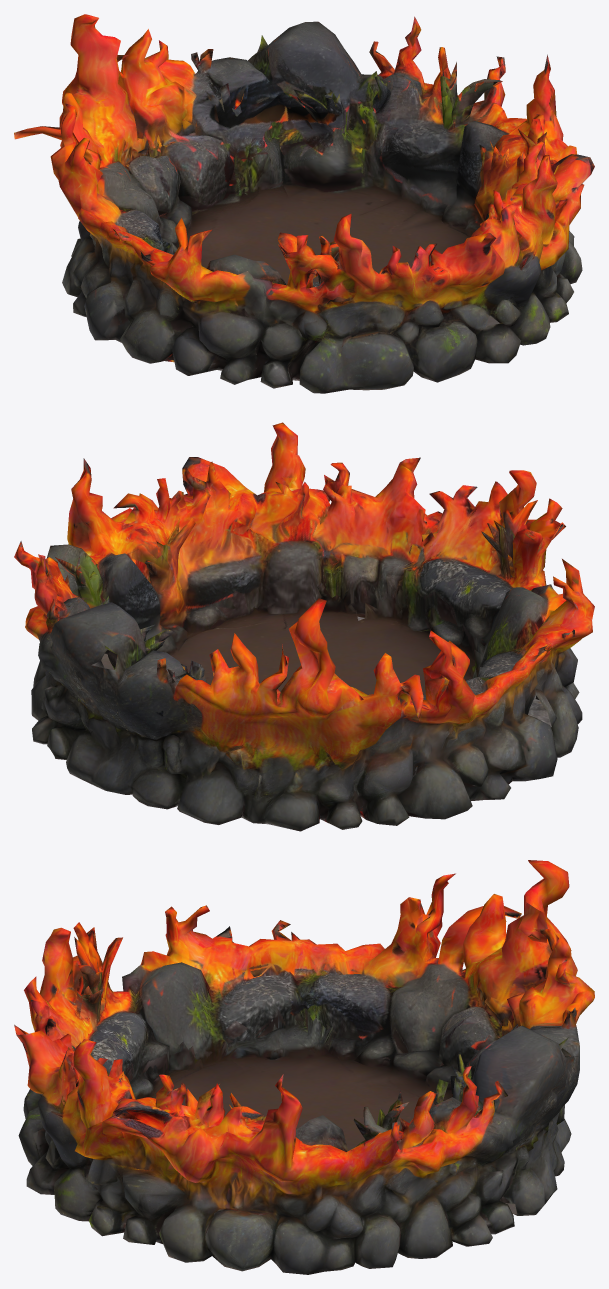
The model's file is RoF.glb.
The picture shows the model from 3 angles, top to bottom: view 1: azimuth 30°, elevation 25°; view 2: azimuth 150°, elevation 25°; view 3: azimuth 270°, elevation 25°; orthographic projection. The views are drawn at different scales.
Size of the model in its own units: 1.87 by 0.8454 by 1.91.
1 material, 1 textured.
